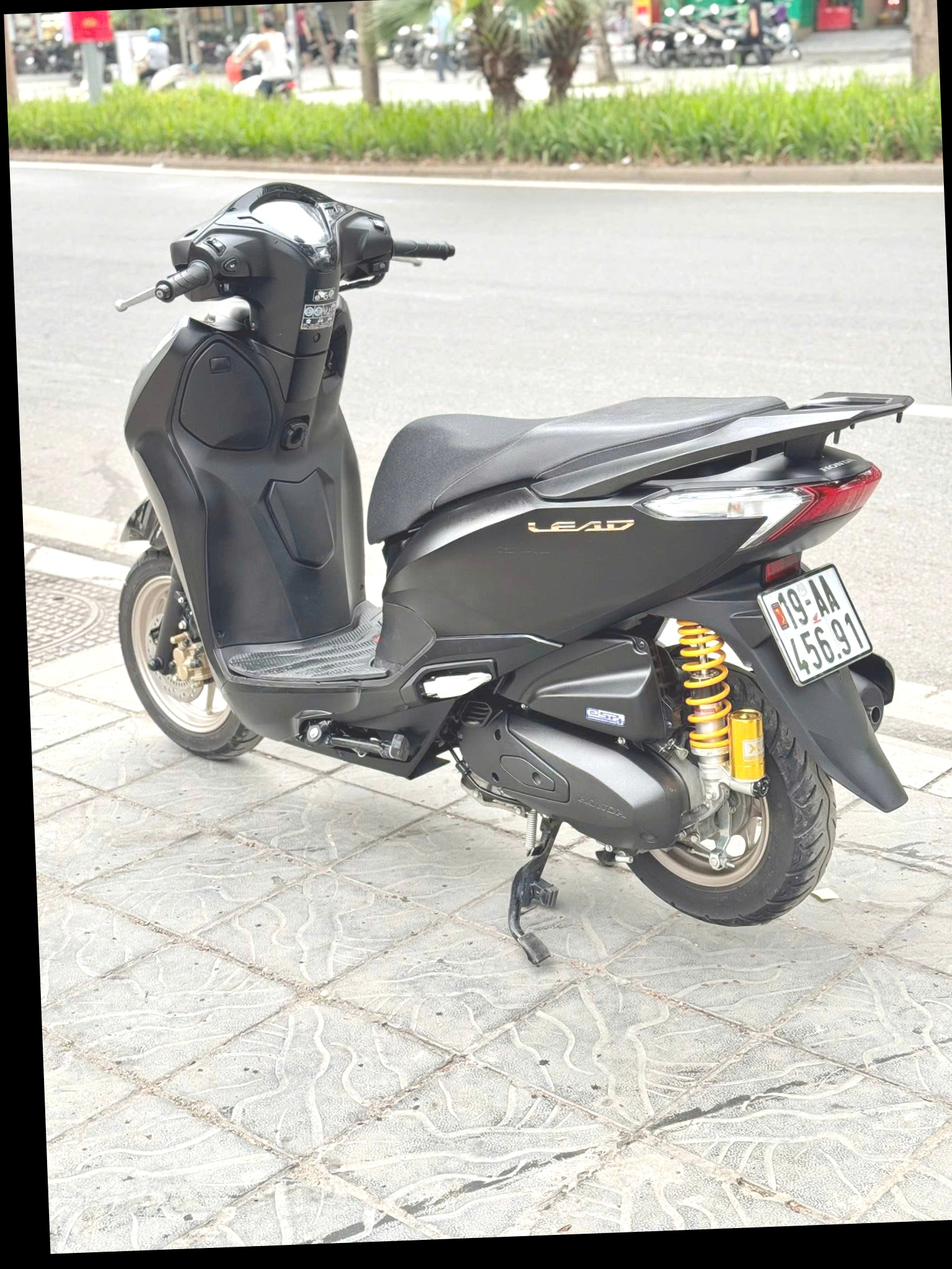Bien-so: (769, 623, 884, 746)
